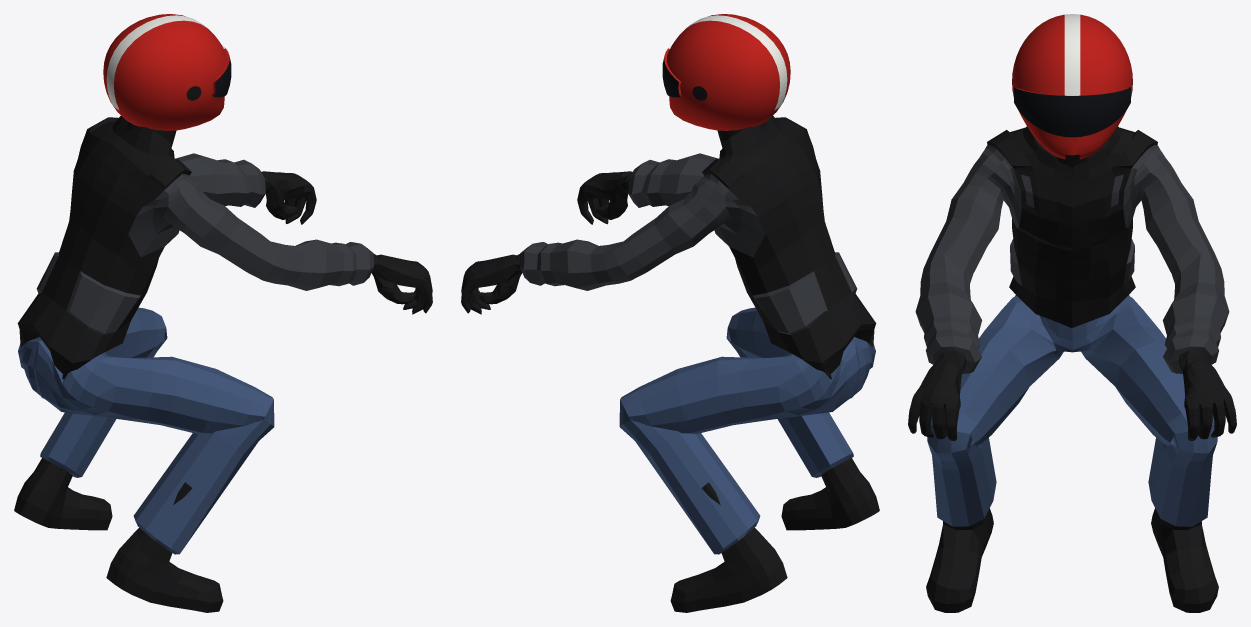
The model's file is rider.glb.
3 views of the same model, side by side, from view 1: azimuth 30°, elevation 25°; view 2: azimuth 150°, elevation 25°; view 3: azimuth 270°, elevation 25° (orthographic). The views are drawn at different scales.
Parts seen in each view (by area): view 1: Rider_Body, Rider_Helmet; view 2: Rider_Body, Rider_Helmet; view 3: Rider_Body, Rider_Helmet.
Boxes of the visible parts, bbox=[...] form: Rider_Body: bbox=[14, 116, 432, 612]; Rider_Helmet: bbox=[103, 14, 231, 130]; Rider_Body: bbox=[461, 116, 879, 612]; Rider_Helmet: bbox=[662, 14, 790, 130]; Rider_Body: bbox=[908, 126, 1236, 612]; Rider_Helmet: bbox=[1012, 14, 1132, 159].
Size of the model in its own units: 0.9192 by 1.41 by 0.7063.
